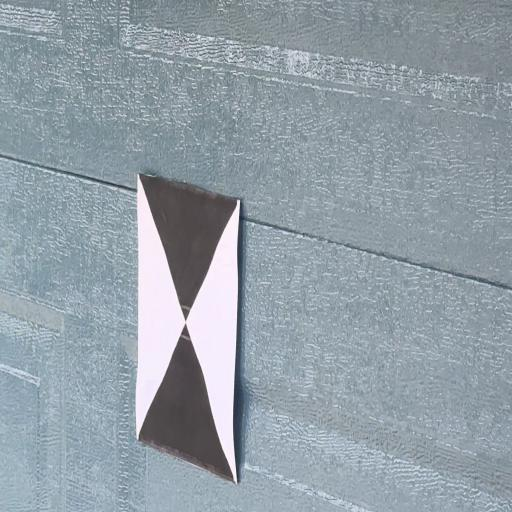target: (135, 174, 241, 483)
